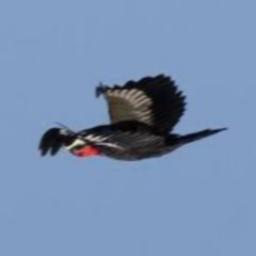Woodpecker: (39, 74, 229, 162)
